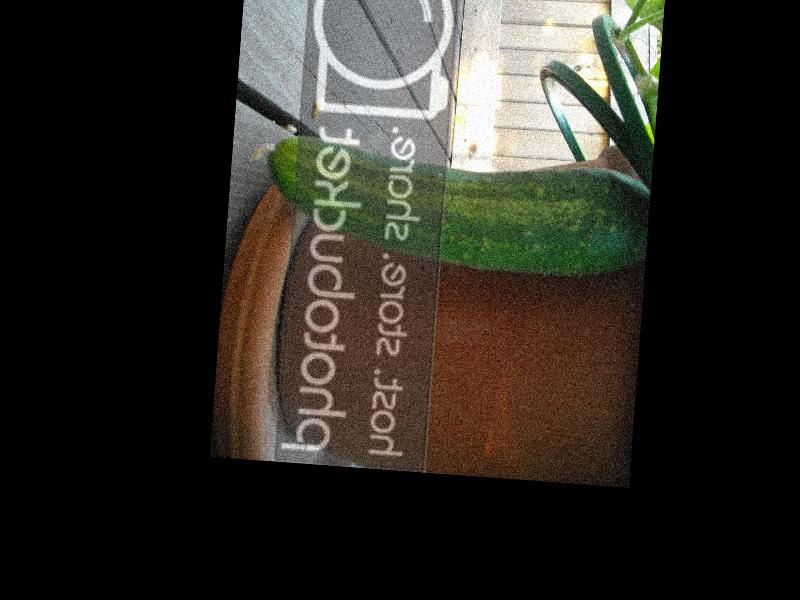Cucumber: (244, 132, 648, 281)
